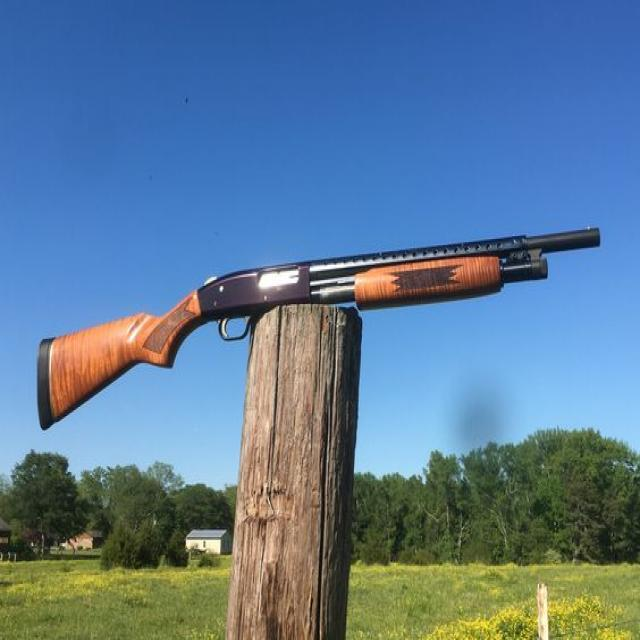shotgun: (33, 211, 612, 438)
